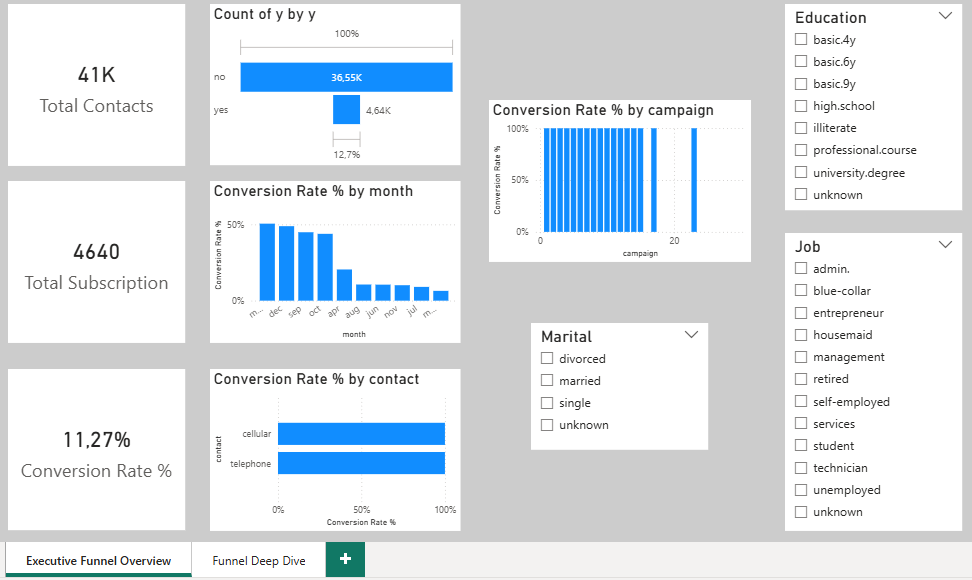

The dashboard page shown, as its layout file describes it:
{"tool":"powerbi","page":{"name":"Executive Funnel Overview","canvas":[1280,720],"ordinal":0},"visuals":[{"type":"card","fields":{"Values":["bank-additional-full.Total Contacts"]},"box":[10.1,15.1,231.8,211.7],"z":0},{"type":"card","fields":{"Values":["bank-additional-full.Total Subscription"]},"box":[10.1,246.9,231.8,211.7],"z":1000},{"type":"card","fields":{"Values":["bank-additional-full.Conversion Rate %"]},"box":[10.1,493.9,231.8,211],"z":2000},{"type":"funnel","fields":{"Category":["bank-additional-full.y"],"Y":["CountNonNull(bank-additional-full.y)"]},"box":[275.5,15.1,327.6,211],"z":3000},{"type":"columnChart","fields":{"Category":["bank-additional-full.month"],"Y":["bank-additional-full.Conversion Rate %"]},"box":[275.5,246.9,327.6,211.7],"z":4000},{"type":"hundredPercentStackedBarChart","fields":{"Y":["bank-additional-full.Conversion Rate %"],"Category":["bank-additional-full.contact"]},"box":[275.5,493.9,327.6,211.7],"z":5000},{"type":"hundredPercentStackedColumnChart","fields":{"Y":["bank-additional-full.Conversion Rate %"],"Category":["bank-additional-full.campaign"]},"box":[640,141.1,342.7,211.7],"z":6000},{"type":"slicer","fields":{"Values":["bank-additional-full.job"]},"box":[1028,315.8,231.8,389.7],"z":7000},{"type":"slicer","fields":{"Values":["bank-additional-full.education"]},"box":[1028,15.1,231.8,270.4],"z":8000},{"type":"slicer","fields":{"Values":["bank-additional-full.marital"]},"box":[695.4,433.4,231.8,166.3],"z":9000}]}

Visuals, with their boxes on the page's 1280x720 design canvas (x1, y1, x2, y2). These are canvas units, not pixel positions in the 972x580 screenshot, which may show the page scaled, cropped or inside an application window:
card - bank-additional-full.Total Contacts: bbox(10, 15, 242, 227)
card - bank-additional-full.Total Subscription: bbox(10, 247, 242, 459)
card - bank-additional-full.Conversion Rate %: bbox(10, 494, 242, 705)
funnel - bank-additional-full.y x CountNonNull(bank-additional-full.y): bbox(276, 15, 603, 226)
columnChart - bank-additional-full.month x bank-additional-full.Conversion Rate %: bbox(276, 247, 603, 459)
hundredPercentStackedBarChart - bank-additional-full.Conversion Rate % x bank-additional-full.contact: bbox(276, 494, 603, 706)
hundredPercentStackedColumnChart - bank-additional-full.Conversion Rate % x bank-additional-full.campaign: bbox(640, 141, 983, 353)
slicer - bank-additional-full.job: bbox(1028, 316, 1260, 706)
slicer - bank-additional-full.education: bbox(1028, 15, 1260, 286)
slicer - bank-additional-full.marital: bbox(695, 433, 927, 600)
